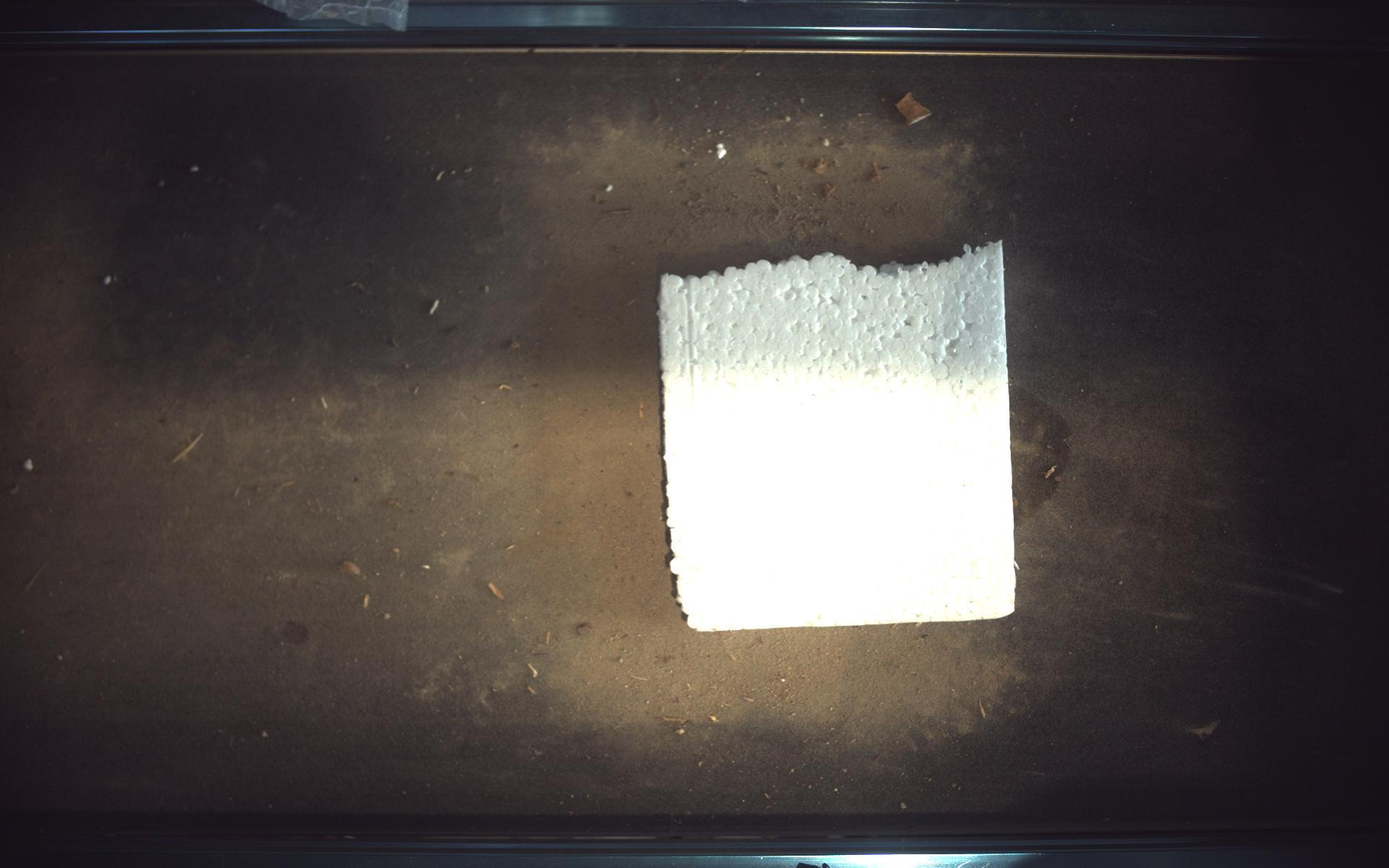foam: (660, 242, 1018, 631)
